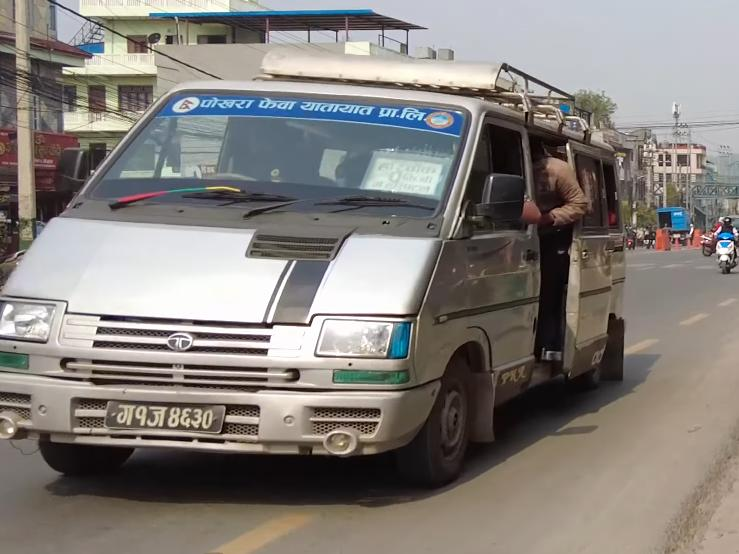micro_bus: (1, 44, 638, 492)
scooter: (711, 229, 739, 278)
